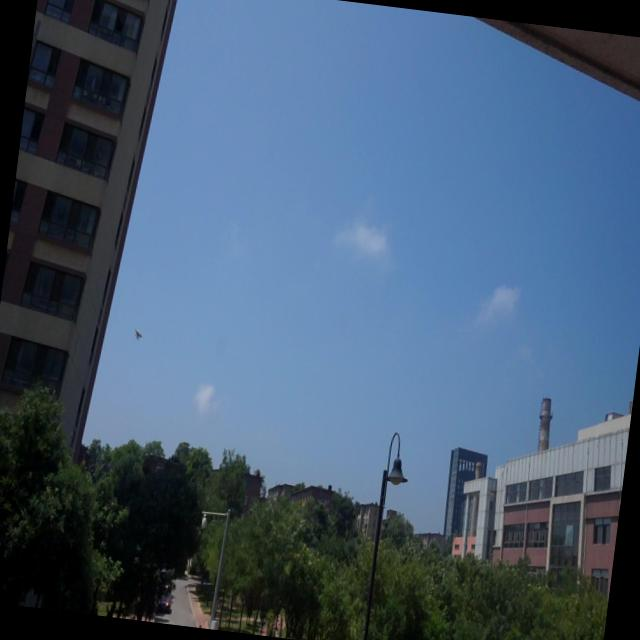drone: (131, 328, 145, 342)
